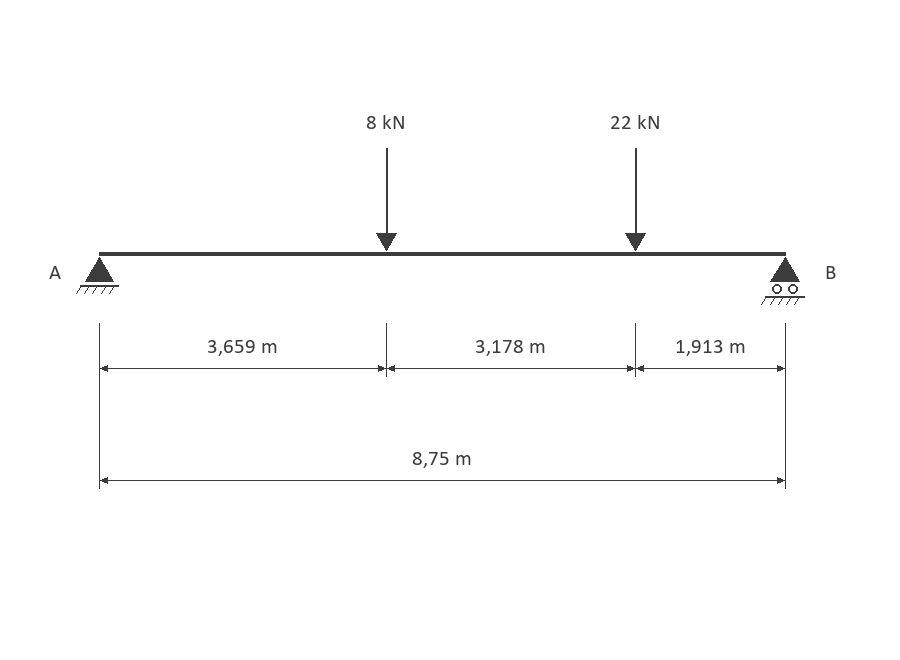pin_support: (76, 257, 119, 294)
point_load: (376, 148, 397, 251), (625, 148, 646, 251)
roller_support: (761, 257, 805, 305)
